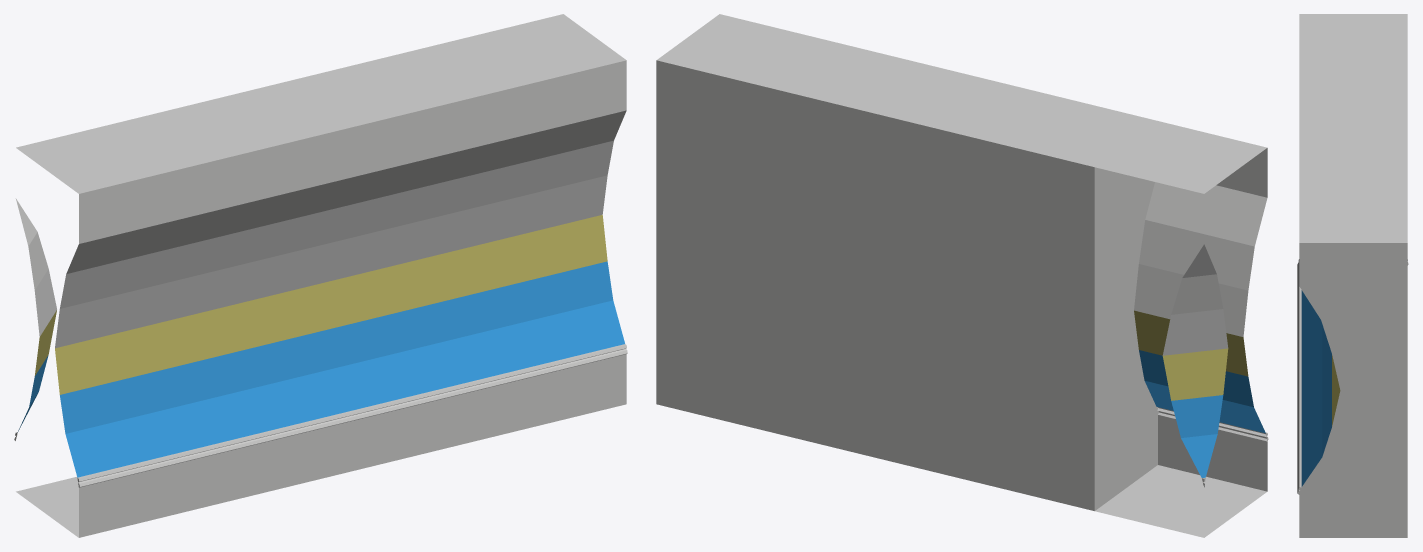
Rendered from SM_Wall_L_v4.fbx.
3 views of the same model, side by side, from view 1: azimuth 30°, elevation 25°; view 2: azimuth 150°, elevation 25°; view 3: azimuth 270°, elevation 25° (orthographic). The views are drawn at different scales.
Visible parts, largest first — view 1: SM_Wall_Edge_Var1.013; view 2: SM_Wall_Edge_Var1.013; view 3: SM_Wall_Edge_Var1.013.
Boxes of the visible parts, x1,y1,x2,y2 form: SM_Wall_Edge_Var1.013: (14, 14, 627, 537); SM_Wall_Edge_Var1.013: (656, 14, 1268, 537); SM_Wall_Edge_Var1.013: (1297, 14, 1408, 537).
Size of the model in its own units: 1002 by 600 by 205.
